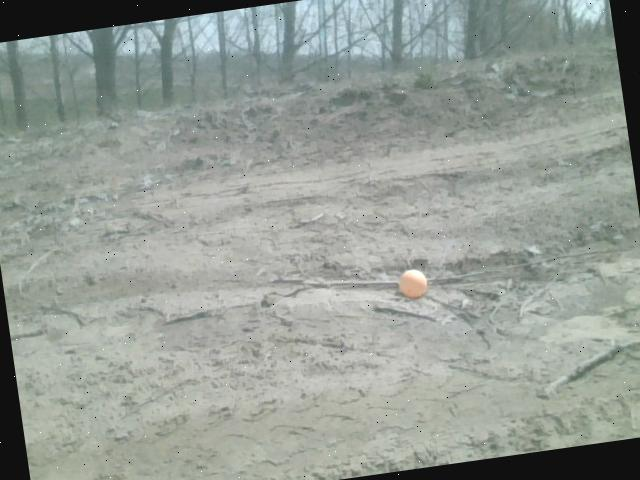ball: (399, 268, 428, 300)
